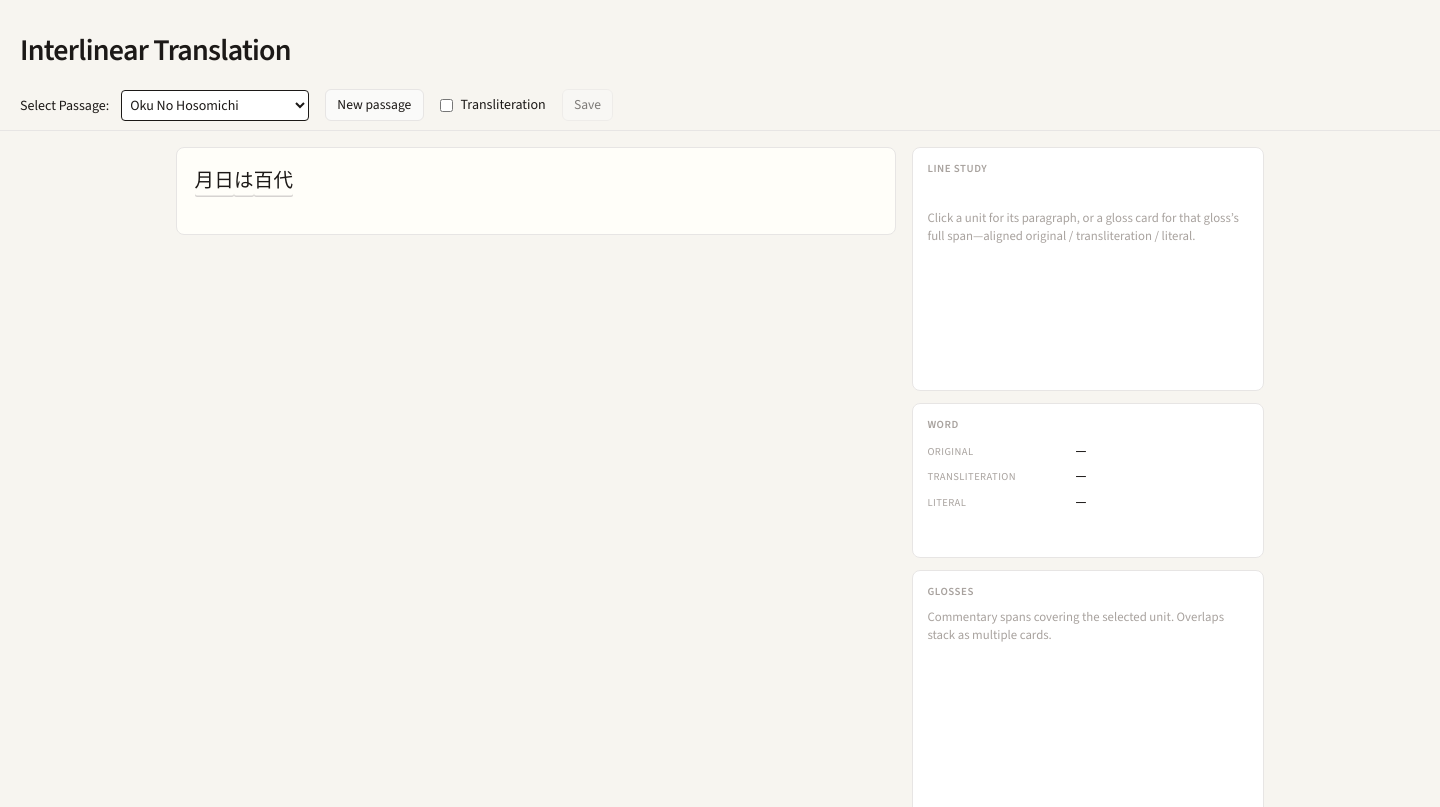
Test case: App component › edits an existing gloss in memory
Click the button "百代": (273, 181) [254,164,293,197]
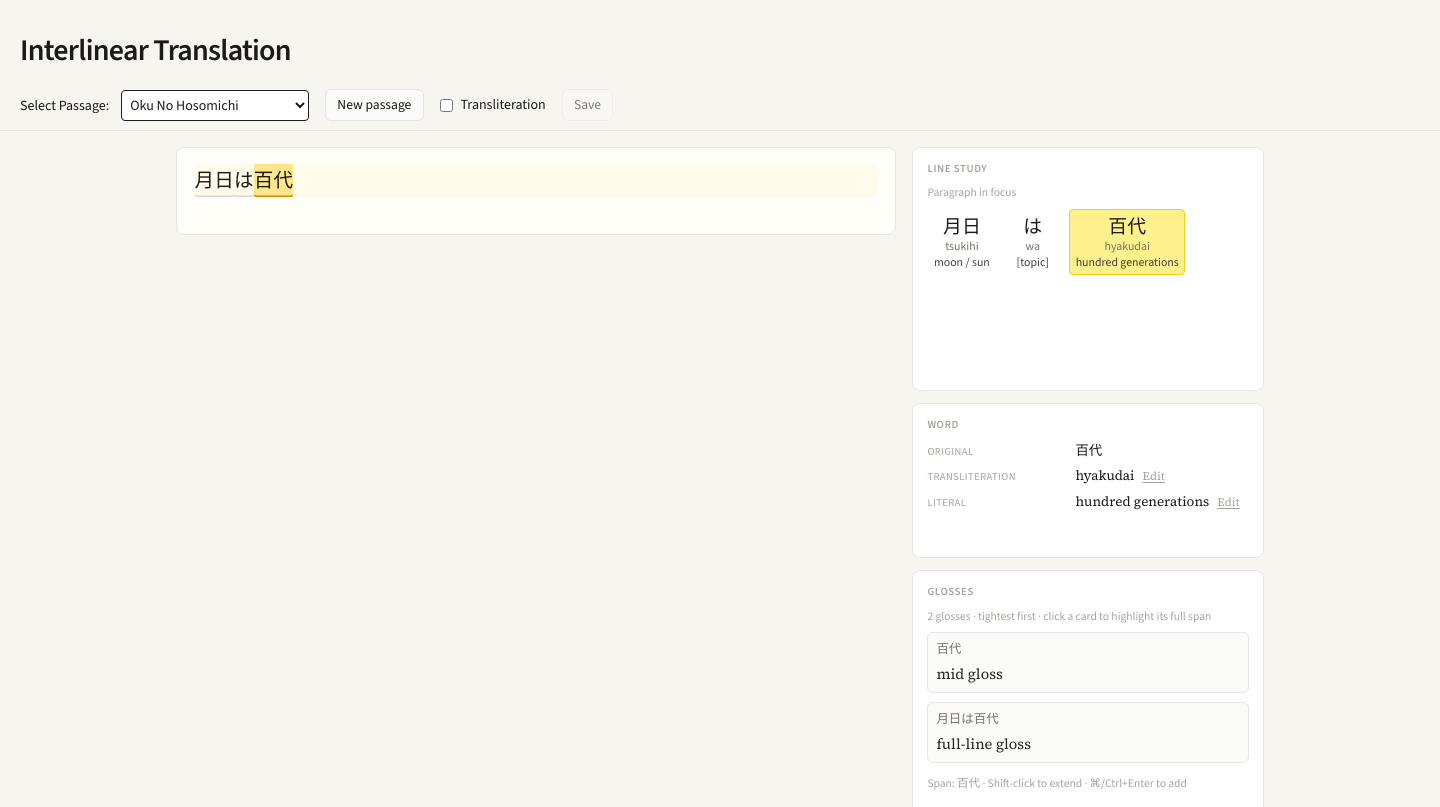
Click the text "mid gloss": (970, 674) [936,664,1003,684]
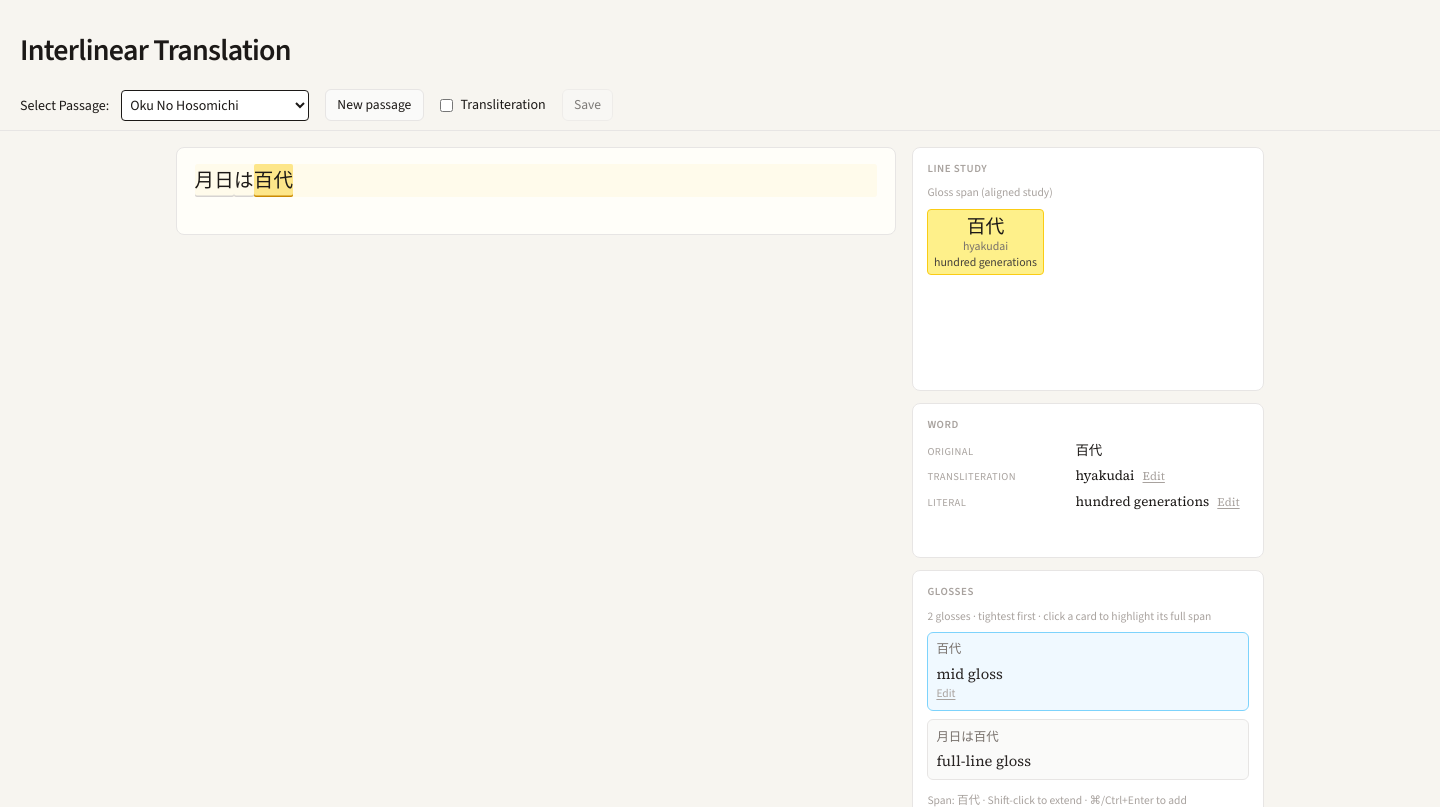
Click the button with class "field-edit-btn" below "mid gloss": (946, 694) [936,685,956,702]
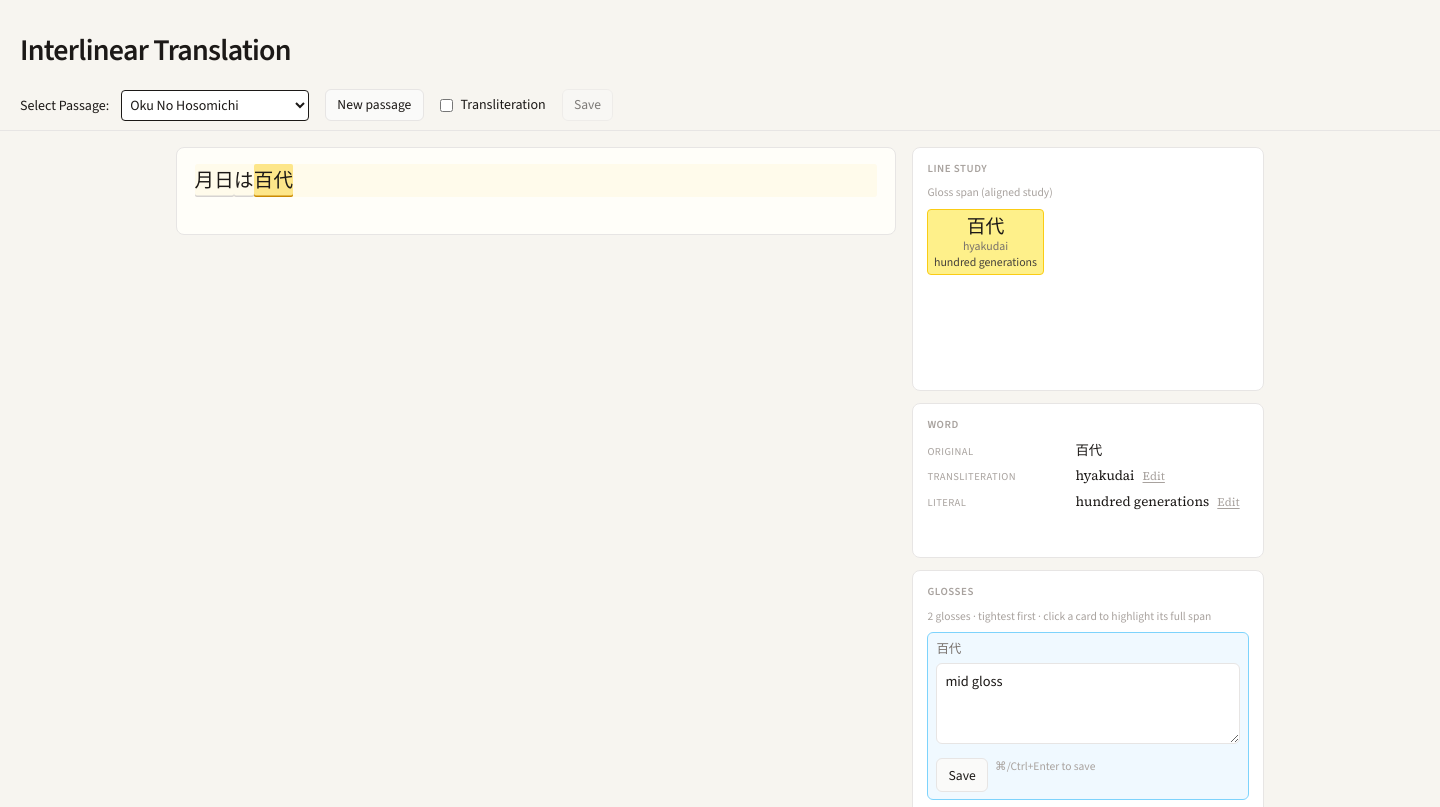
Replace the text in the text box named "Edit gloss commentary" with "revised mid gloss": (1088, 704) [936,663,1240,744]
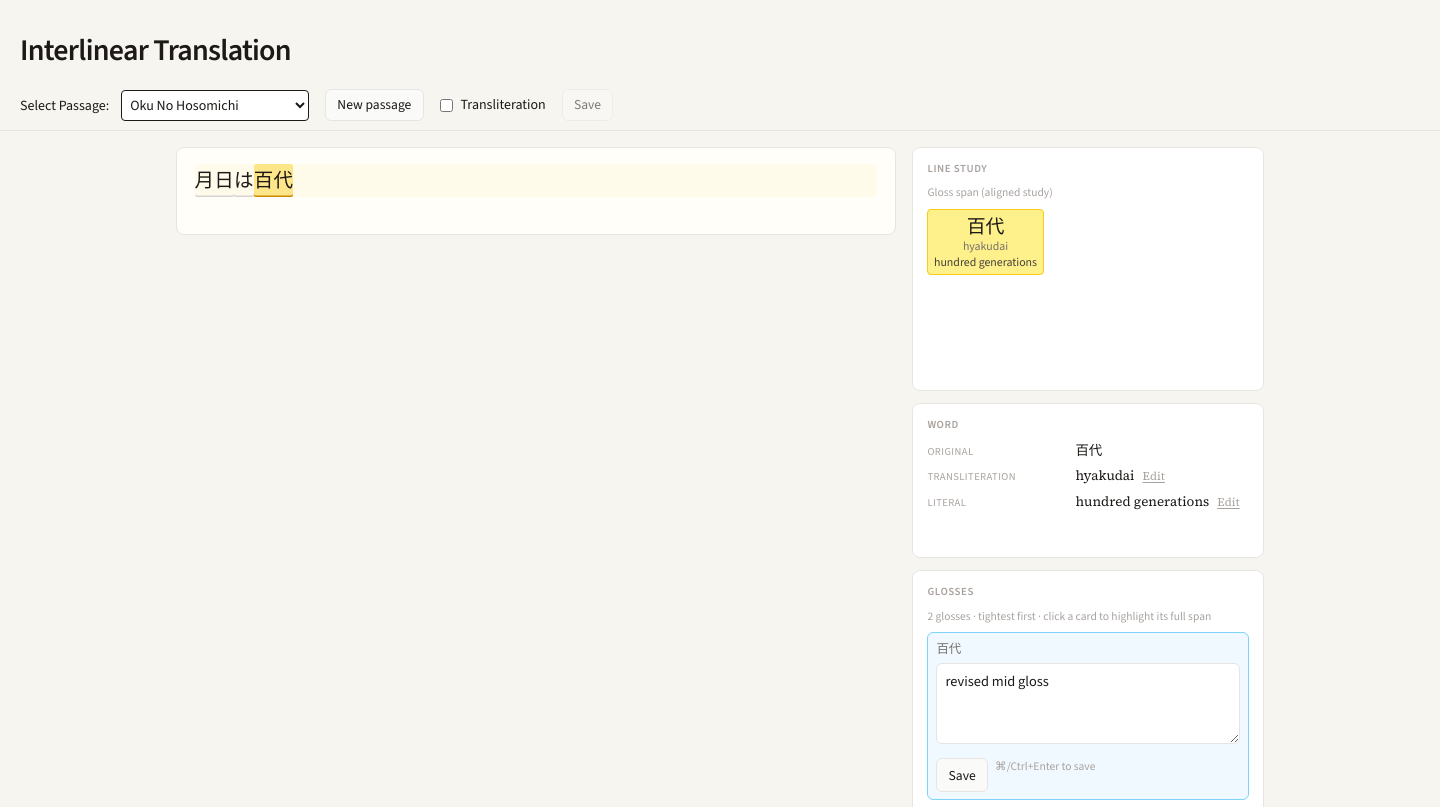
Click the button "Save" next to "⌘/Ctrl+Enter to save": (962, 775) [936,758,988,792]
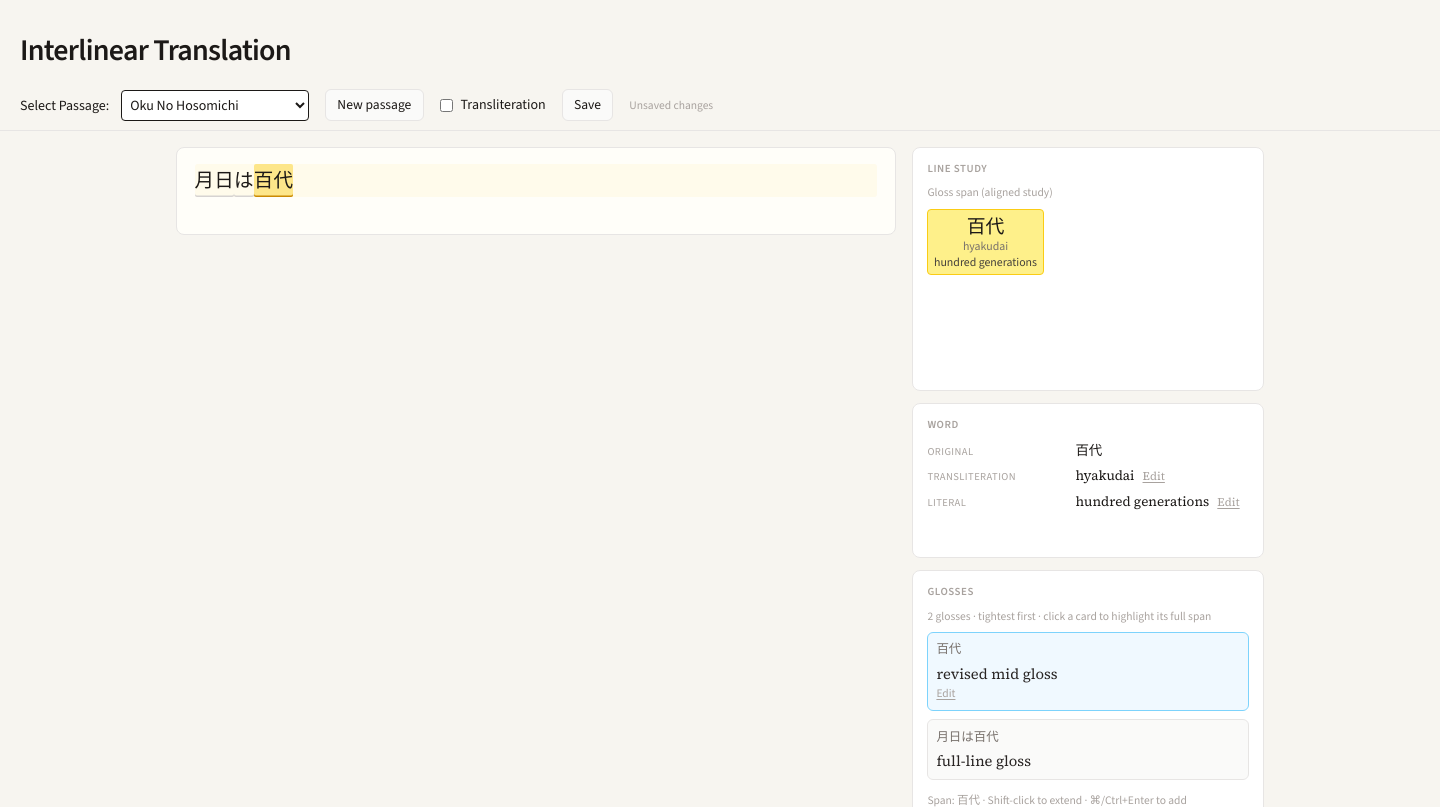
Result: the text "revised mid gloss" is shown at [936,664,1058,684]
